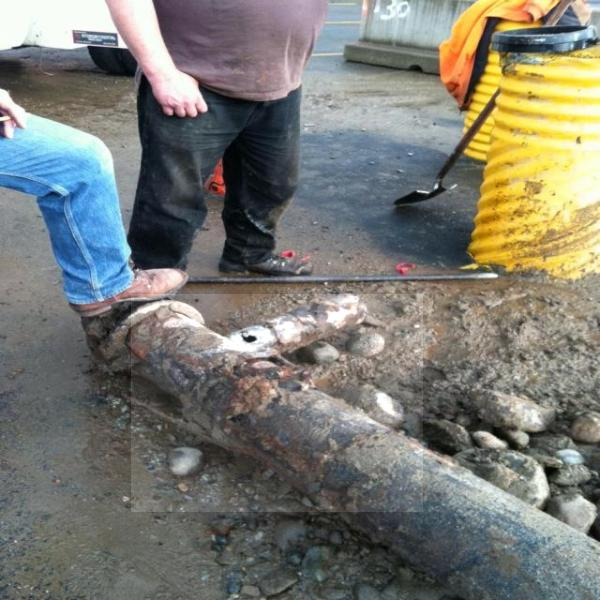leak: (131, 294, 423, 512)
